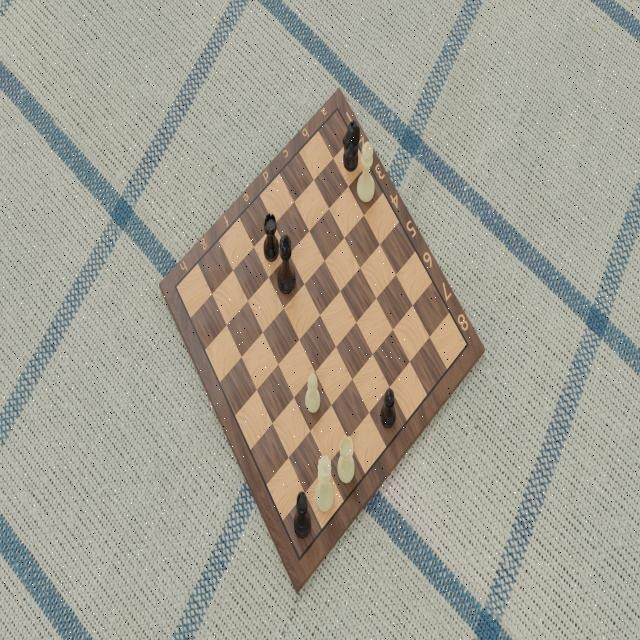black-bishop: (293, 490, 311, 542)
black-king: (276, 232, 296, 296)
black-knight: (341, 117, 360, 174)
black-pawn: (379, 387, 397, 429)
black-rook: (263, 212, 280, 264)
white-king: (355, 139, 377, 204)
white-pawn: (303, 371, 321, 415)
white-queen: (314, 453, 334, 514)
white-rook: (336, 433, 356, 485)
